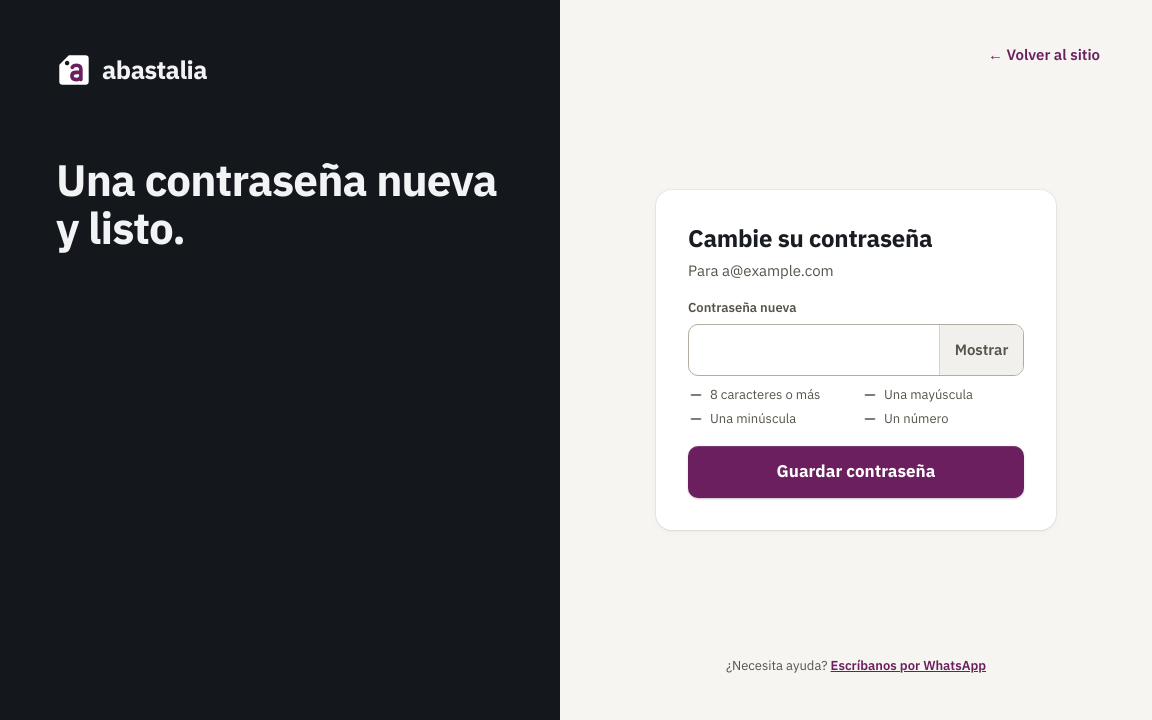
it: TK-230: a used or expired reset code asks for a new link
This screenshot has width=1152, height=720.
Type "Nueva2026" into the password field labelled "Contraseña nueva" at [814, 350], box [689,325,939,375]
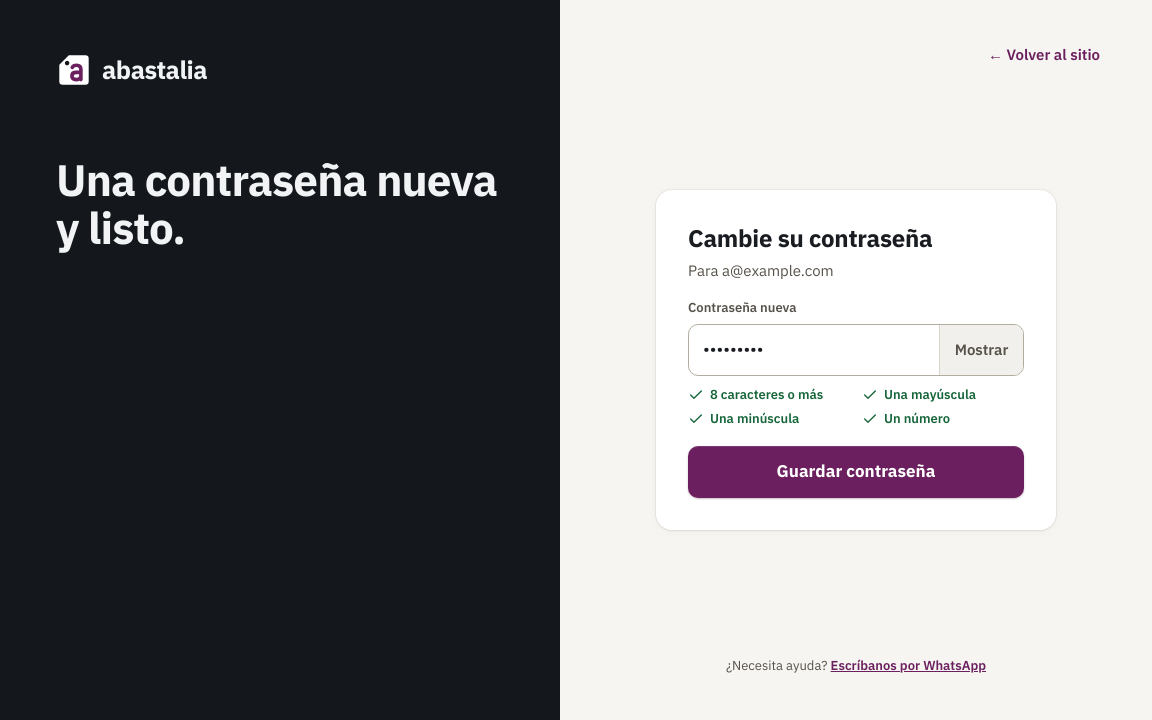
Click the button "Guardar contraseña" at [856, 472], box [688,446,1024,498]
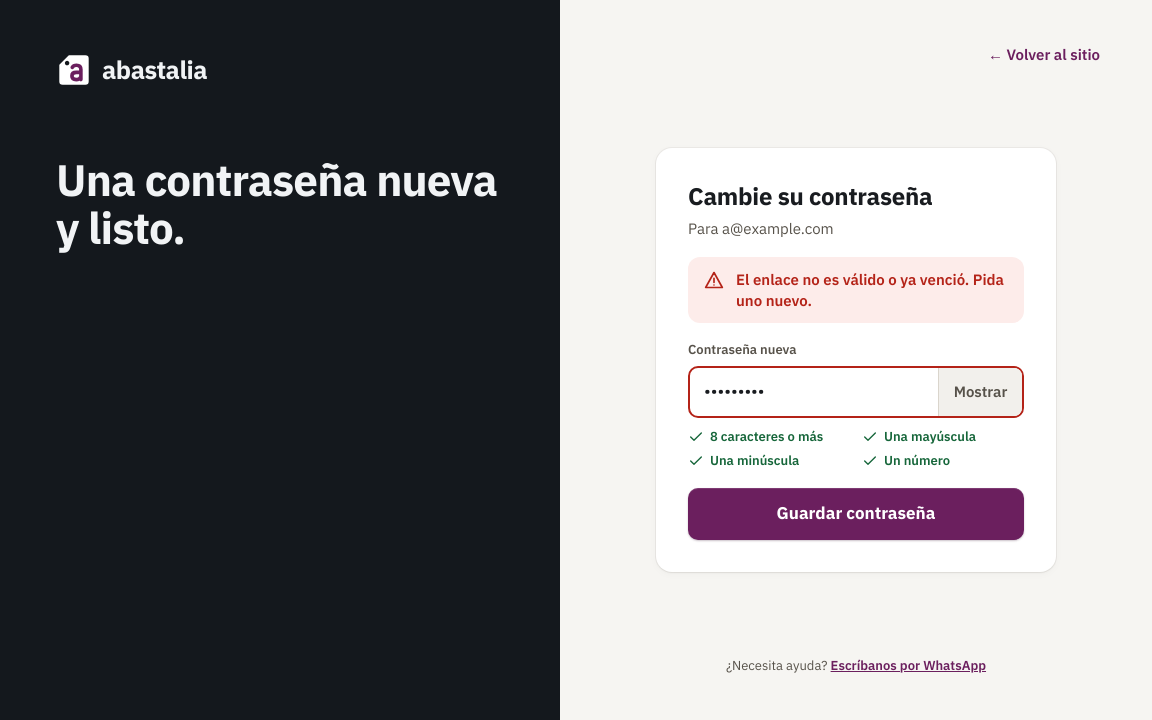
Expected: the text "El enlace no es válido o ya venció. Pida uno nuevo." is shown, [736,269,1008,311]
